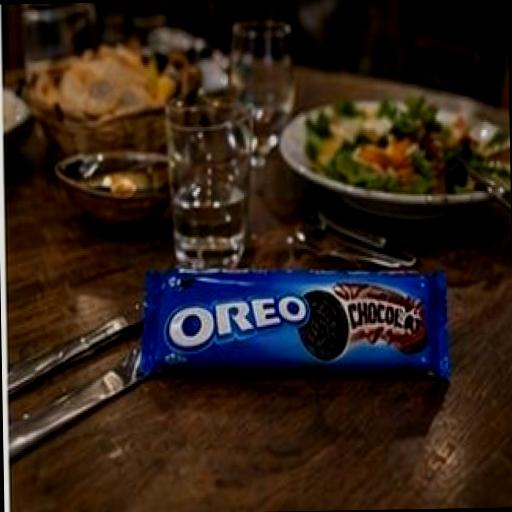oreo: (127, 185, 487, 436)
